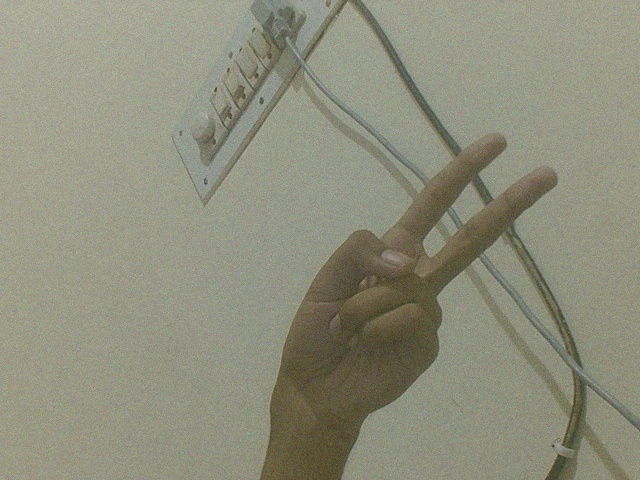hand: (274, 130, 564, 429)
